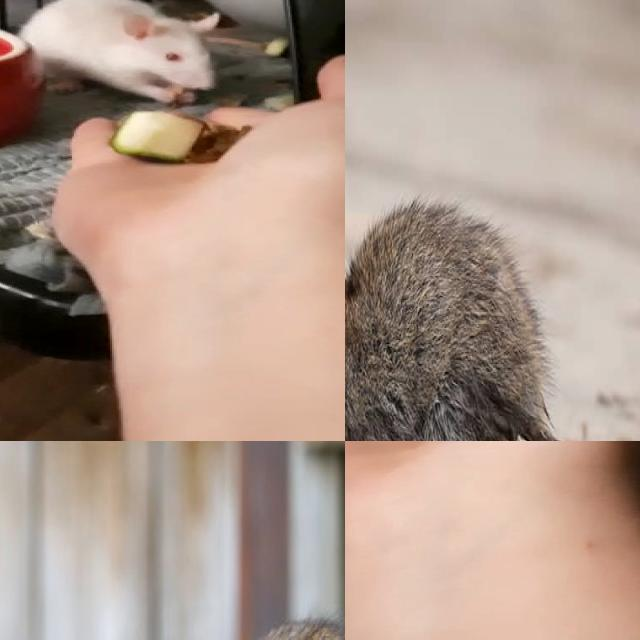rat: (345, 174, 526, 441), (17, 0, 231, 107)
